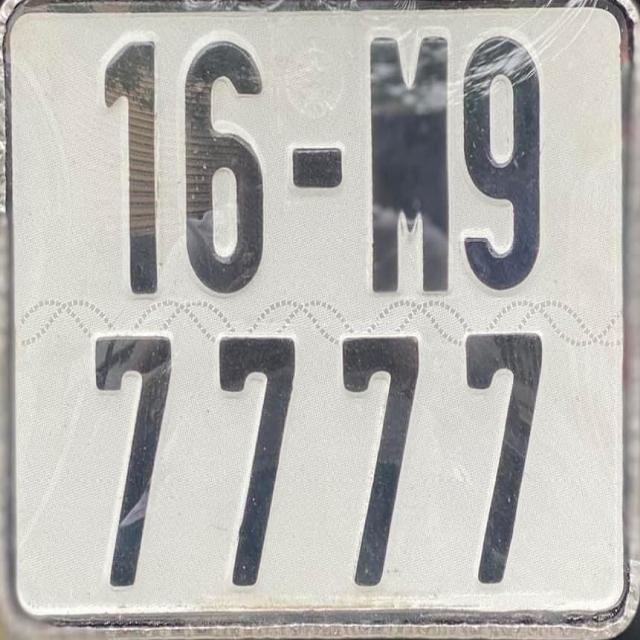1: (99, 31, 172, 300)
6: (174, 28, 276, 299)
7: (84, 316, 184, 596), (207, 320, 306, 592), (456, 314, 552, 590), (333, 319, 429, 590)
9: (454, 27, 552, 292)
M: (360, 20, 452, 300)
